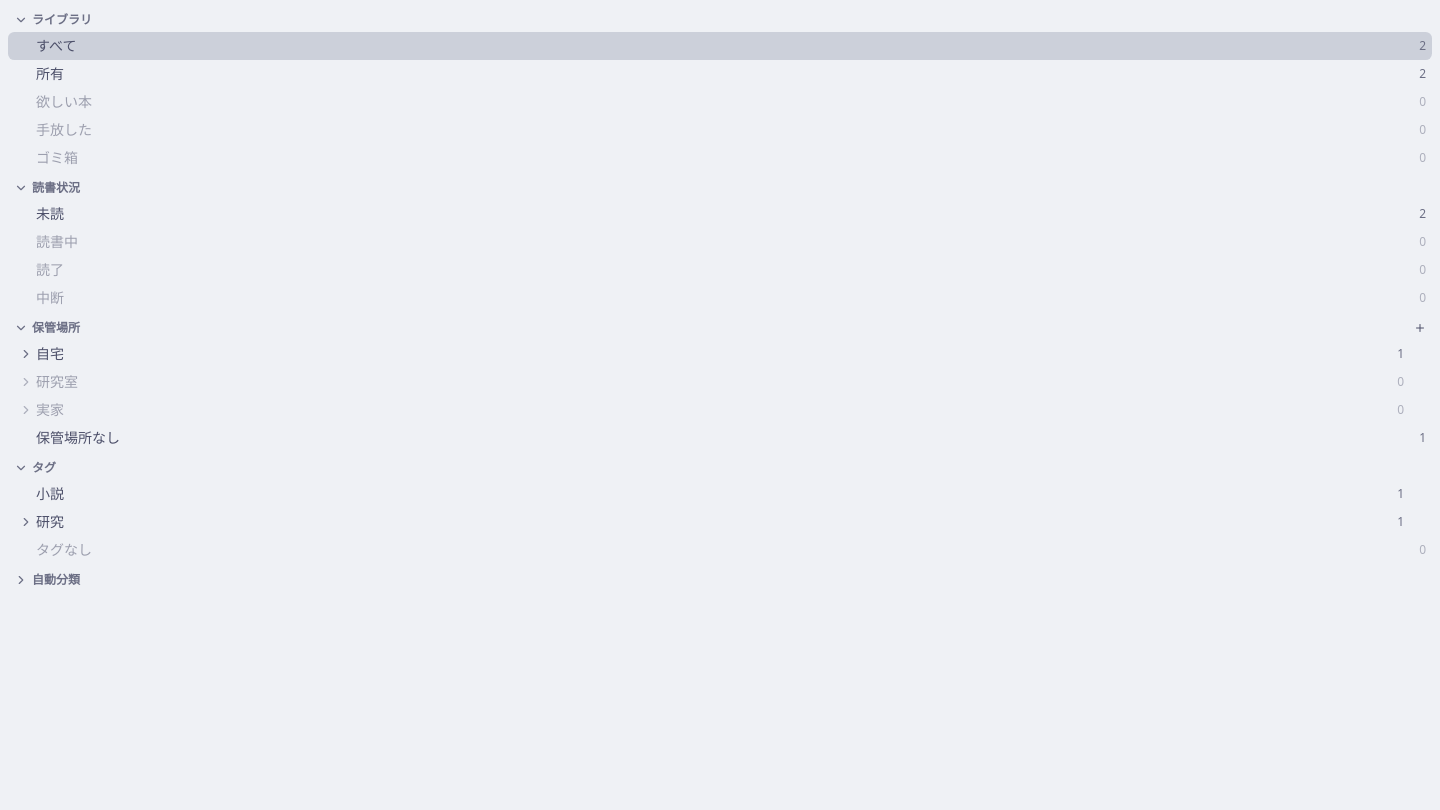
Scenario: サイドバーの管理（保管場所・タグ） › 保管場所 › 見出しの「＋」で、最上位に保管場所を作る
The width and height of the screenshot is (1440, 810).
Click the button named "保管場所を追加" at (1420, 328), box [1408,316,1432,340]
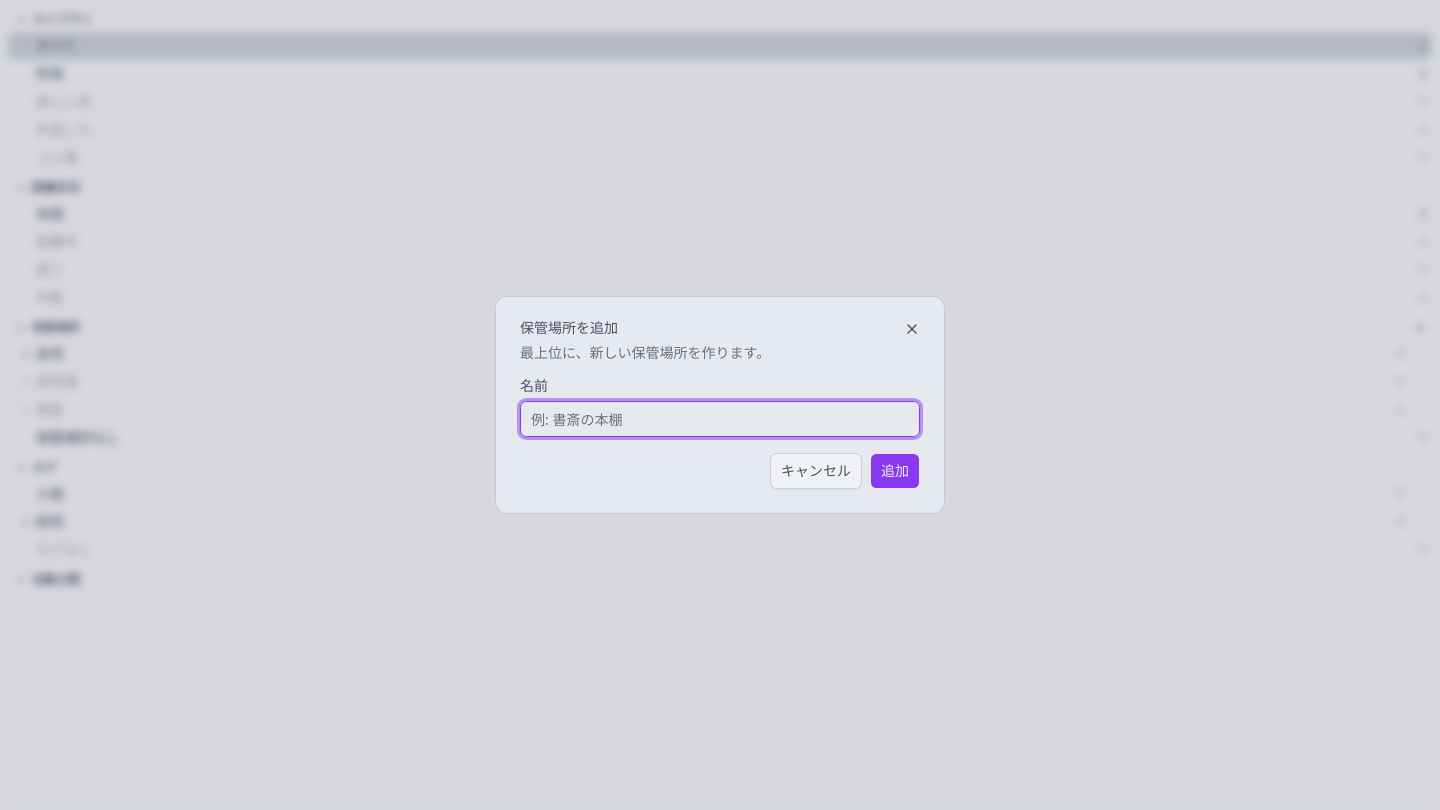
Type " 書庫 " into the field labelled "名前" at (720, 419), box [520,401,920,437]
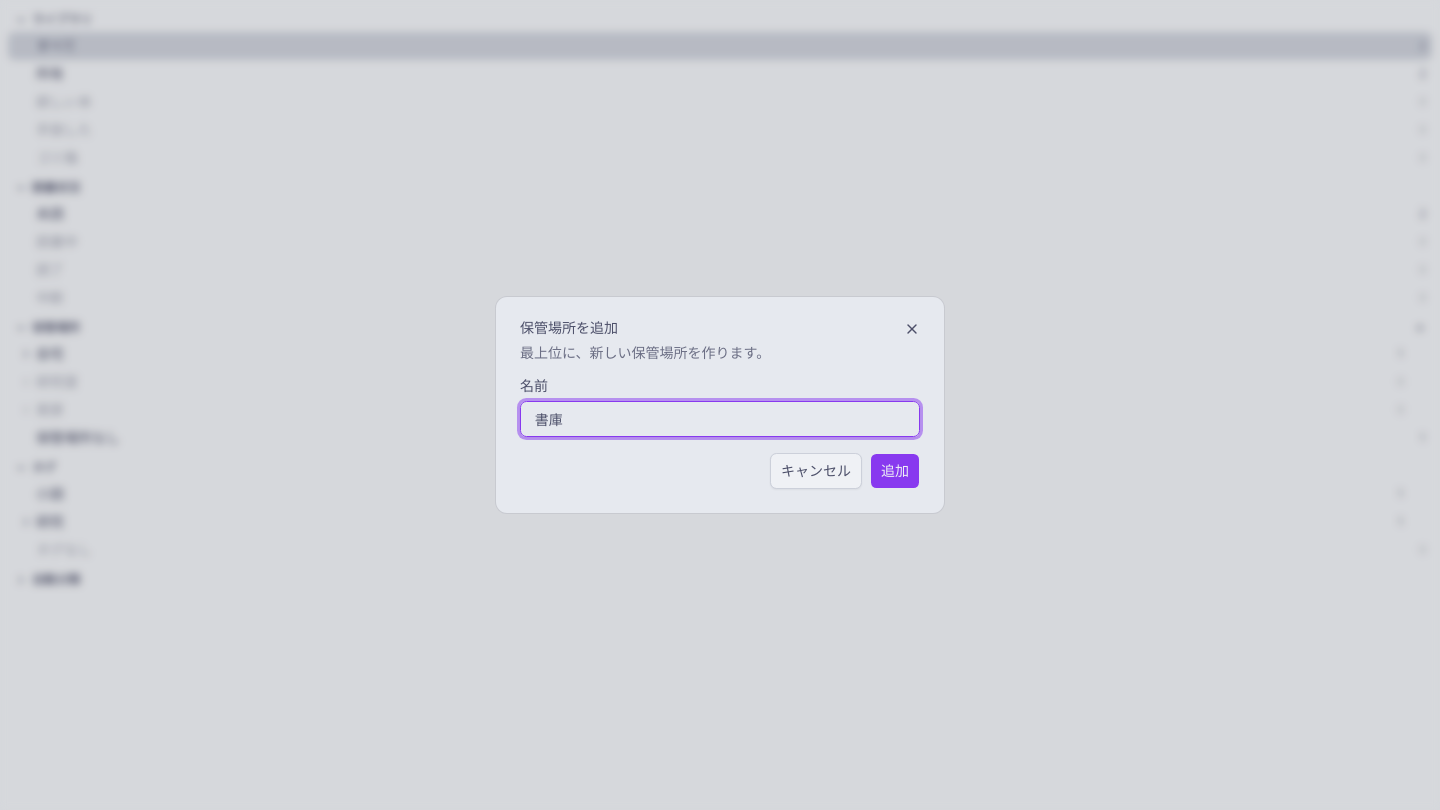
Click the button "追加" at (895, 471), box [870,453,920,489]
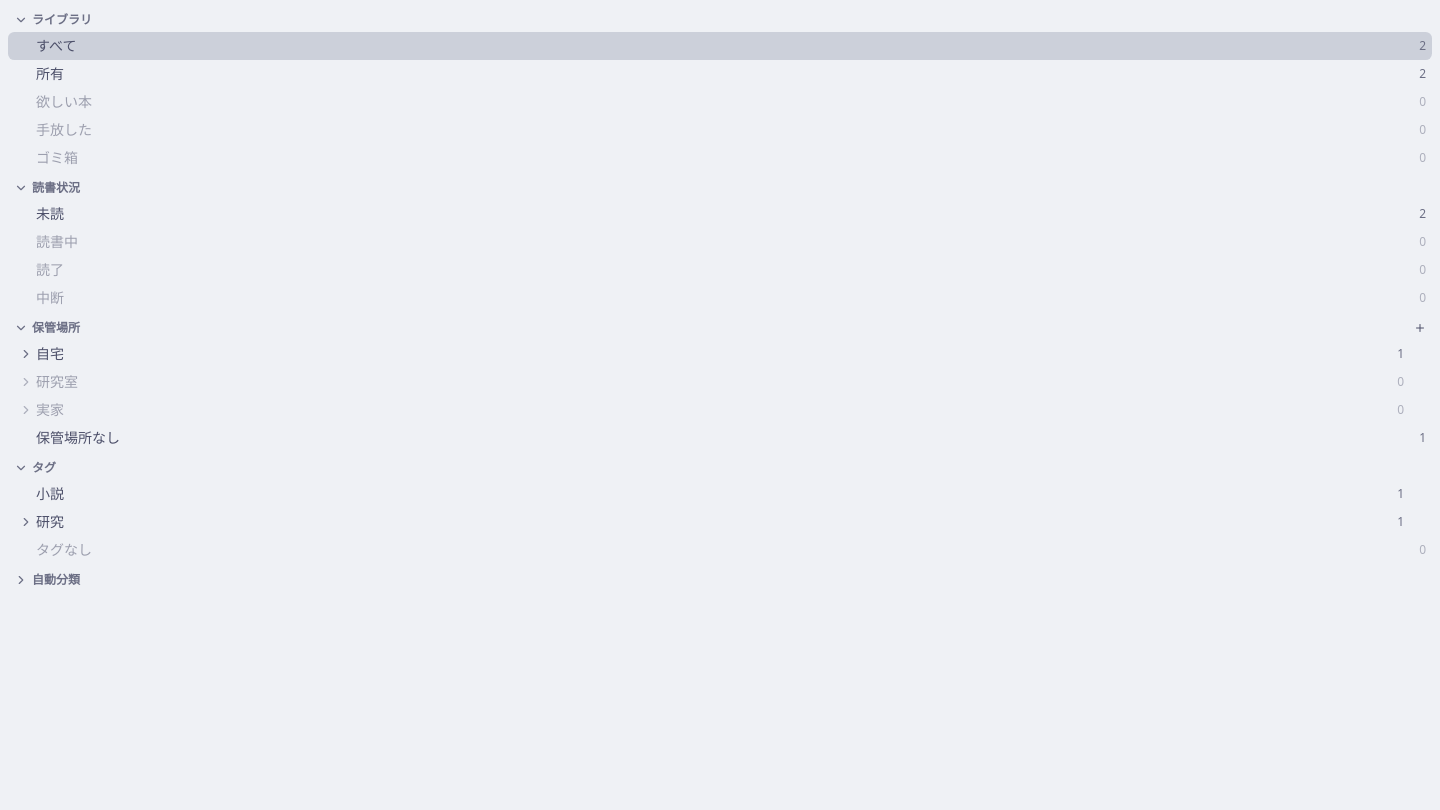
expect the dialog is gone: met
